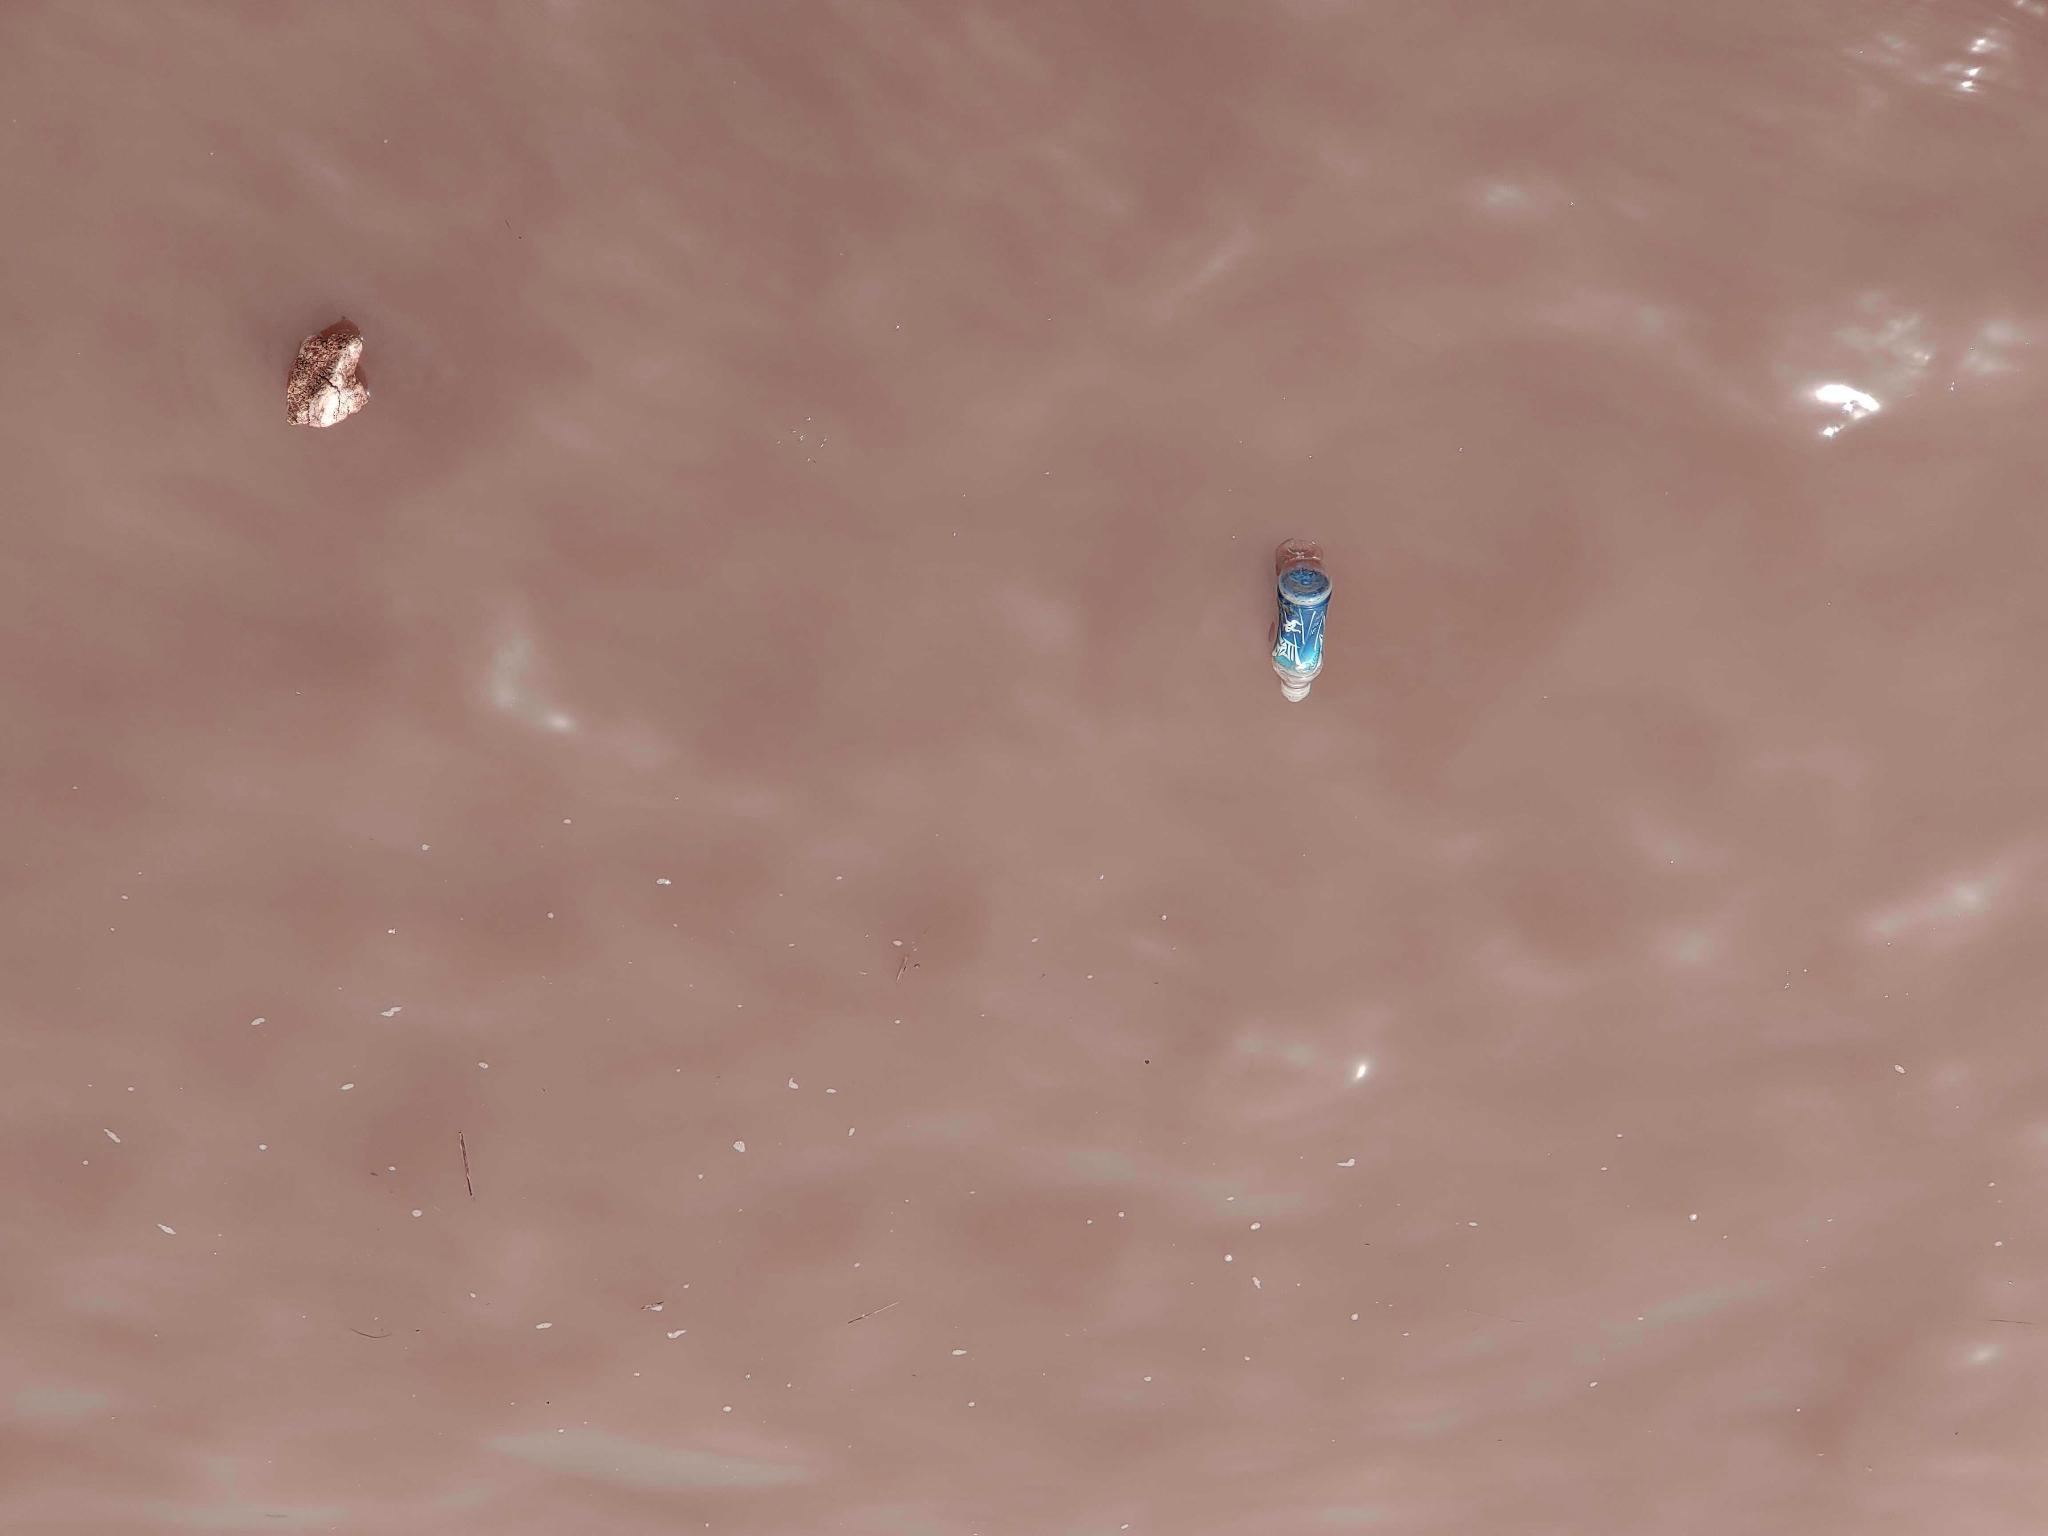Plastic: (1268, 544, 1338, 708)
